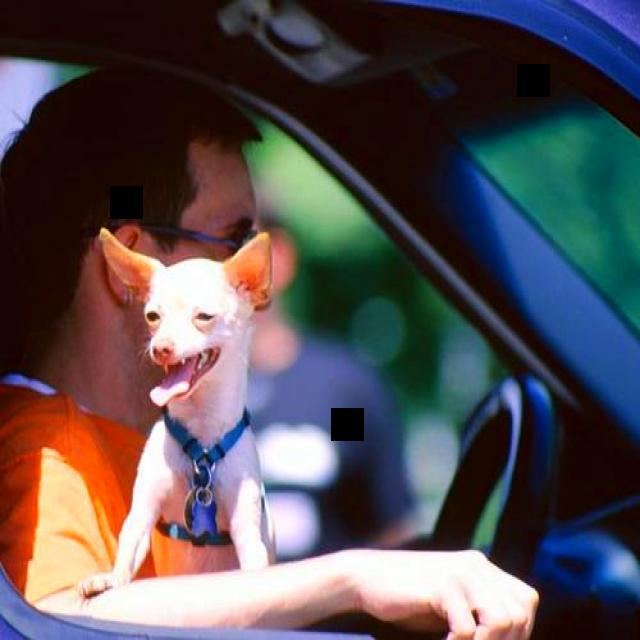adult_dog: (77, 229, 278, 598)
